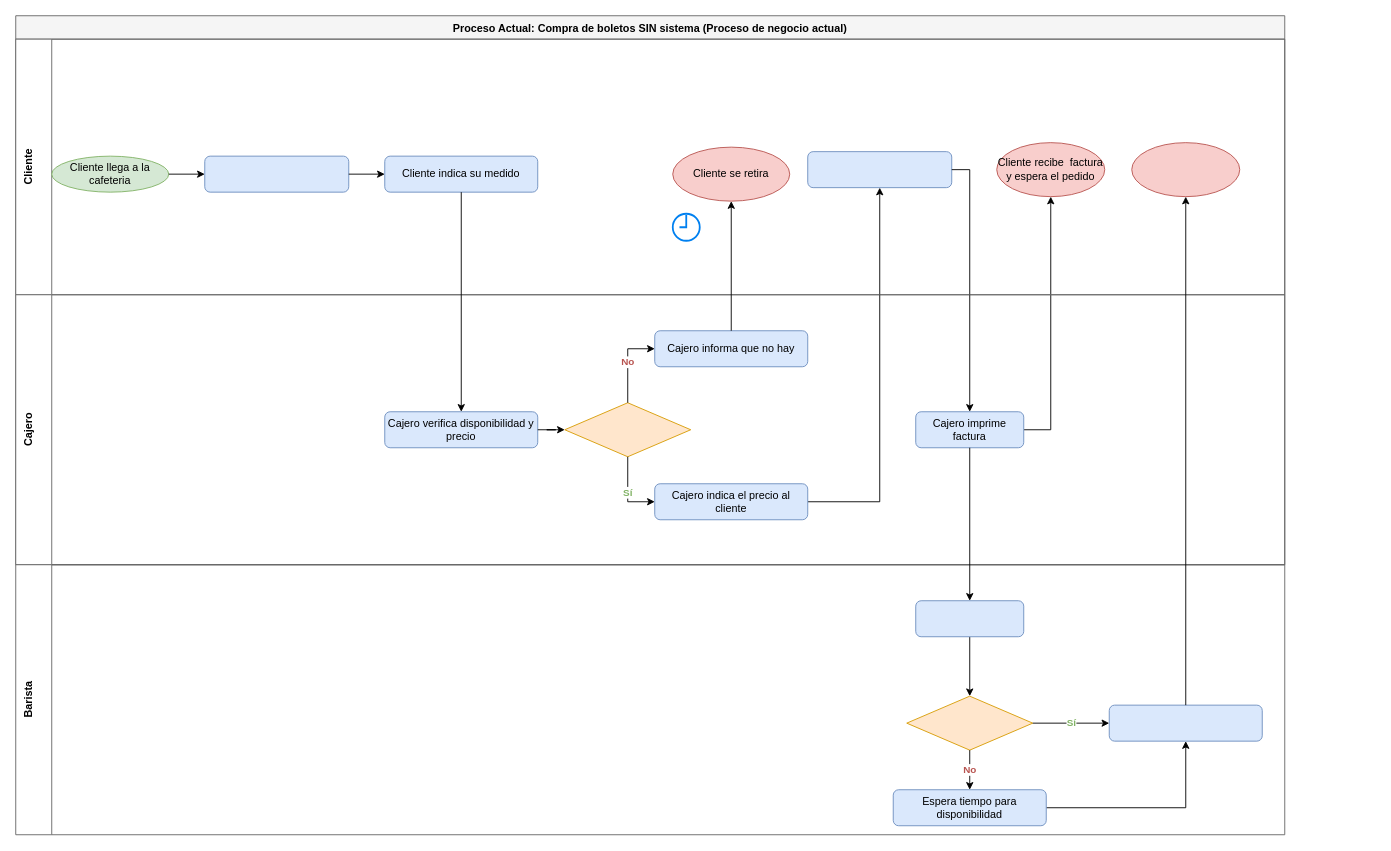
Image size: 1391x851. Some labels were removed from this diagram. The box of each missing label's shape, as (x1, y1, x2, y2) in pixels:
Cliente hace fila en caja: (204, 155, 349, 192)
Cliente paga en efectivo: (807, 151, 952, 188)
Entregar al cliente: (1131, 142, 1240, 197)
Preparar el produto: (1108, 704, 1262, 741)
Recibe Pedido: (915, 600, 1024, 637)
¿Esta disponible?: (906, 695, 1033, 750)
¿Hay disponibilidad?: (564, 402, 691, 457)
